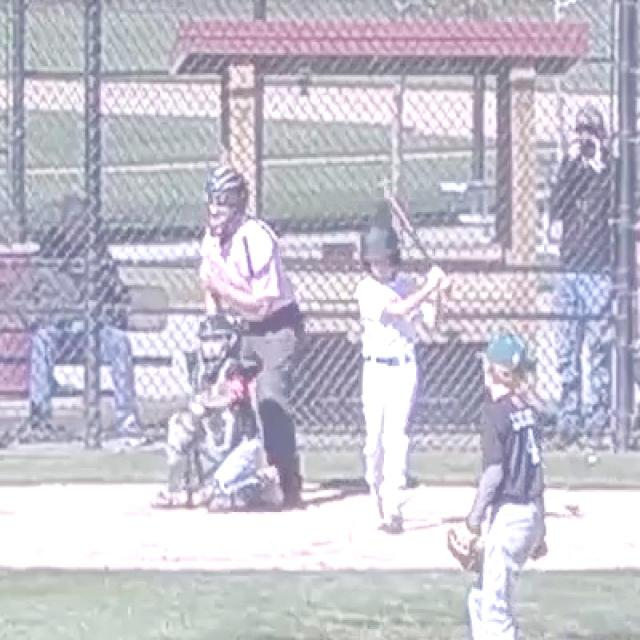baseball: (191, 404, 205, 414)
